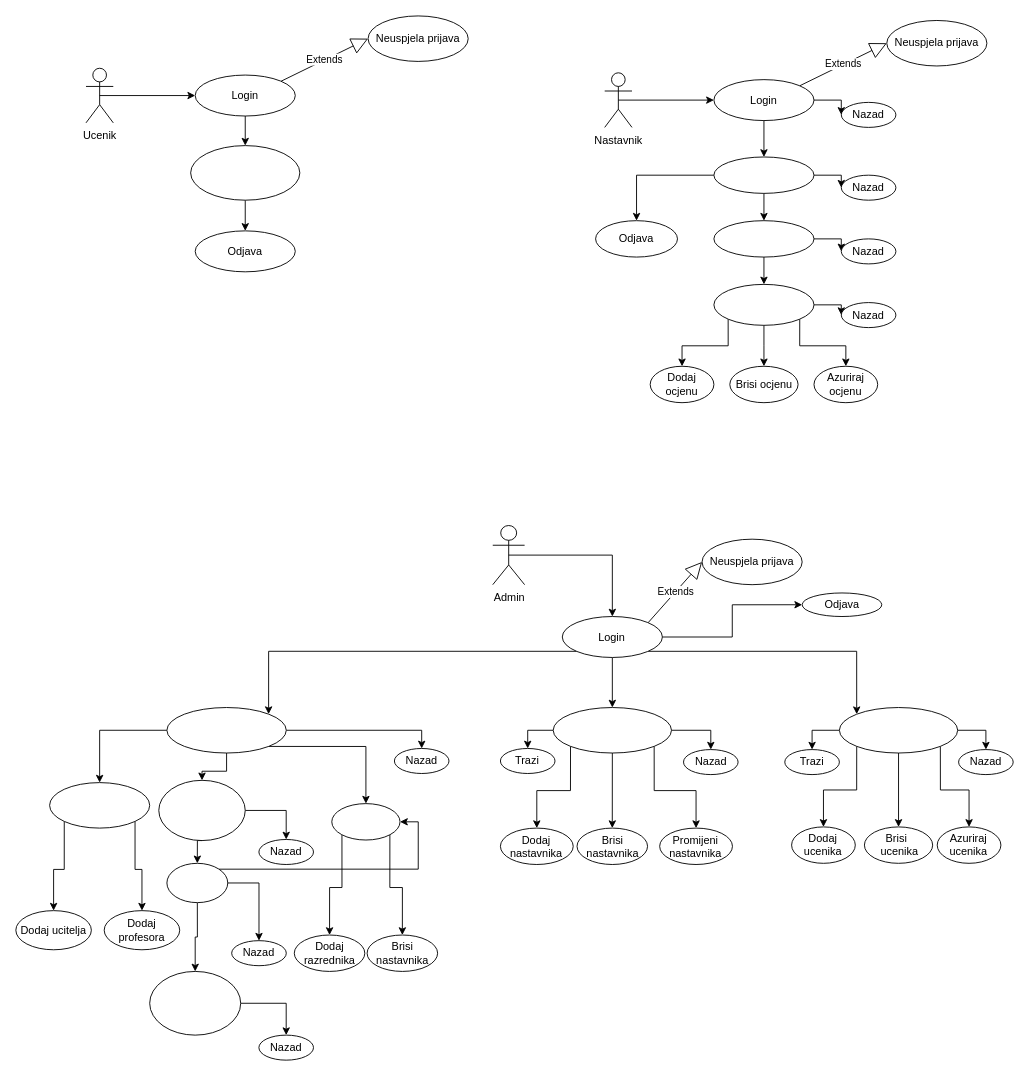
Some shapes in this 1029 by 1077 pixel diagram are drawn without their labels. Each missing label, with the centre of its shape:
"Dodaj ili ukloni / vezu razreda i nastavnika" goes at (x=195, y=1003).
"Koordinacija" goes at (x=226, y=730).
"Odaberi razred" goes at (x=197, y=882).
"Odabir predmeta" goes at (x=763, y=238).
"Odabir razreda" goes at (x=763, y=174).
"Odabir ucenika" goes at (x=763, y=304).
"Povezi predmet s nastavnikom" goes at (x=99, y=805).
"Povezi razred s nastavnikom" goes at (x=201, y=810).
"Pregled podataka (osobni podaci i ocjene)" goes at (x=245, y=172).
"Razrednik" goes at (x=365, y=821).
"Vođenje podataka o nastavnicima" goes at (x=611, y=730).
"Vođenje podataka o ucenicima" goes at (x=898, y=730).
